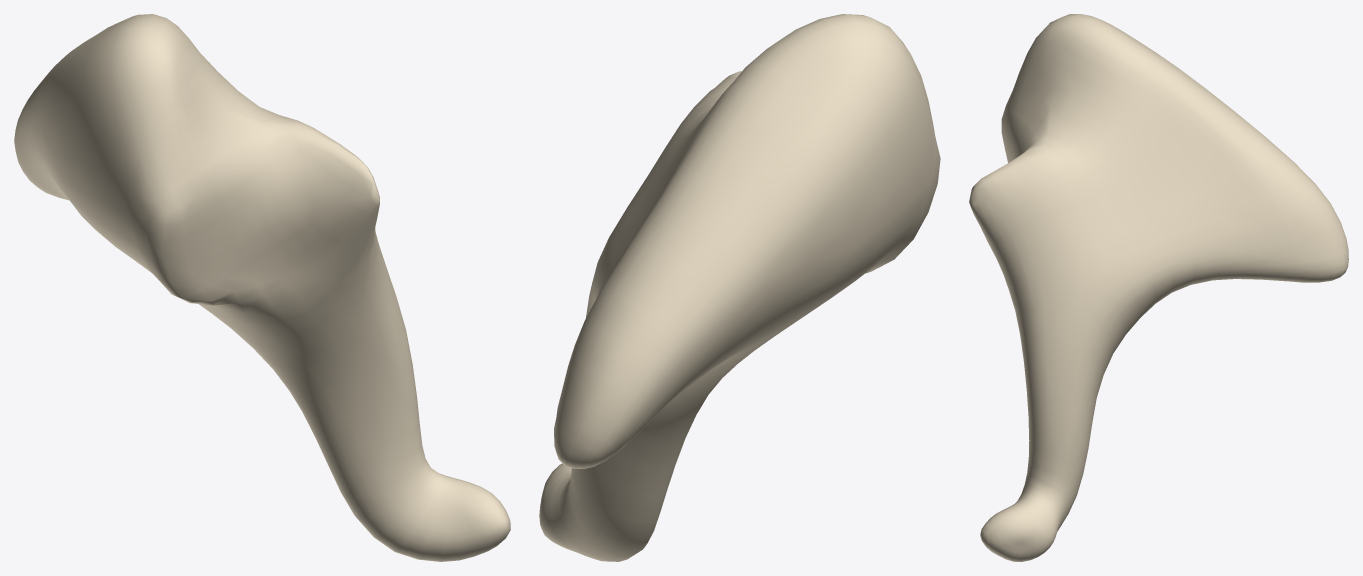
The model's file is incus-r.glb.
3 renders of one model, left to right at view 1: azimuth 30°, elevation 25°; view 2: azimuth 150°, elevation 25°; view 3: azimuth 270°, elevation 25°, orthographic. The views are drawn at different scales.
Parts seen in each view (by area): view 1: Incus.r; view 2: Incus.r; view 3: Incus.r.
Part boxes in pixels (left/top/right/bottom): Incus.r: left=14, top=14, right=510, bottom=561; Incus.r: left=539, top=14, right=940, bottom=561; Incus.r: left=969, top=14, right=1348, bottom=561.
Size of the model in its own units: 0.00422 by 0.00623 by 0.00489.
